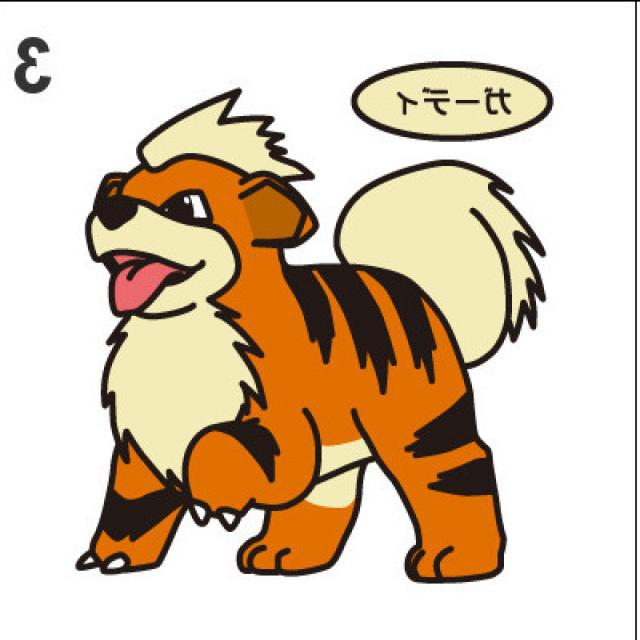Growlithe: (70, 96, 507, 579)
